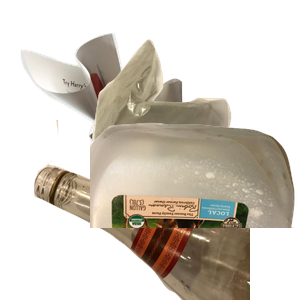glass: (31, 120, 271, 300)
paper: (18, 30, 213, 210)
plastic: (90, 120, 300, 300)
trash: (89, 37, 300, 213)
